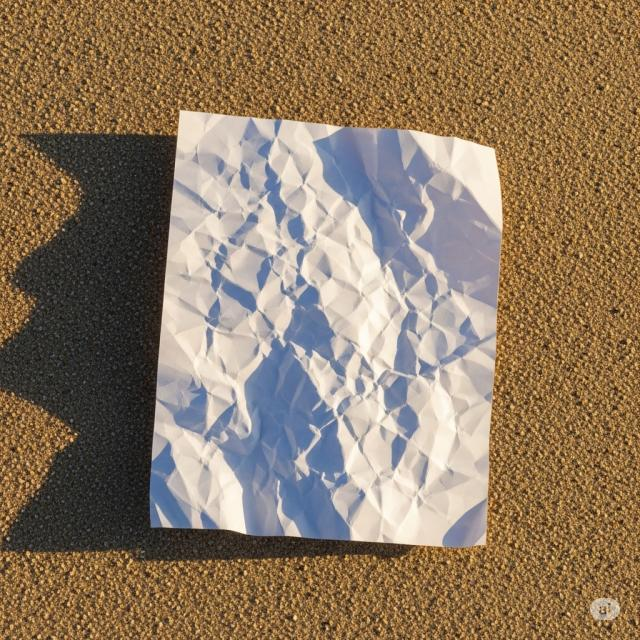paper: (139, 101, 509, 563)
